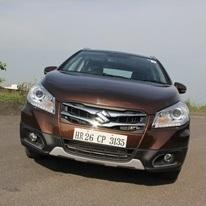License-Plate: (73, 128, 129, 152)
